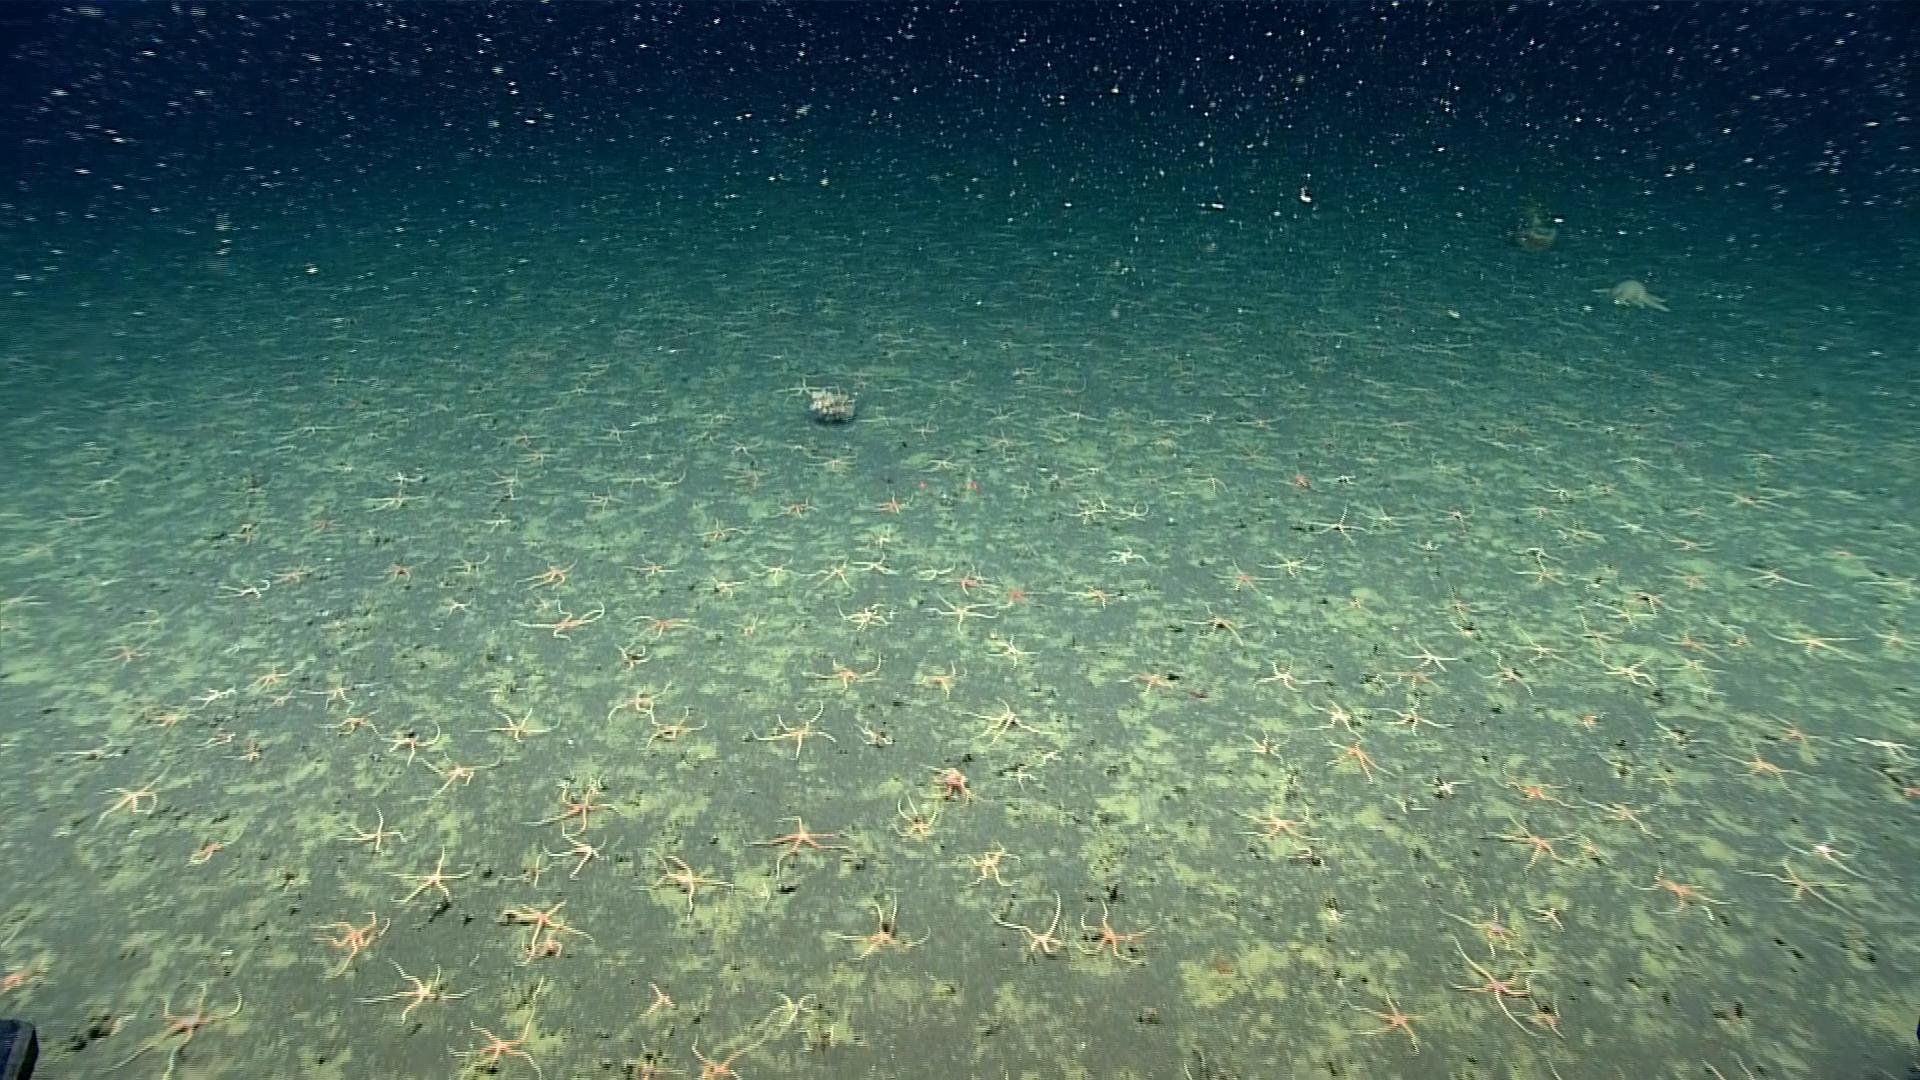brittle_sea_star: (98, 978, 244, 1069), (1440, 934, 1544, 1039), (353, 957, 484, 1033), (822, 897, 936, 968), (443, 1006, 546, 1075), (634, 849, 737, 916), (496, 897, 593, 967), (745, 812, 853, 874), (303, 907, 390, 982), (1722, 841, 1829, 901), (1344, 986, 1436, 1054), (1776, 823, 1874, 882), (87, 767, 171, 833), (404, 750, 505, 804), (989, 889, 1067, 959), (1618, 855, 1712, 911), (524, 778, 617, 835), (384, 848, 476, 905), (1071, 898, 1151, 963), (1441, 902, 1535, 957), (1477, 807, 1572, 861), (508, 589, 611, 638), (1701, 731, 1791, 786), (472, 698, 563, 752), (753, 695, 837, 749), (542, 824, 613, 886), (1582, 793, 1668, 841), (1755, 622, 1855, 661), (955, 692, 1038, 737), (1490, 765, 1571, 811), (1505, 625, 1582, 671), (690, 1033, 766, 1079), (1365, 692, 1445, 736), (339, 804, 404, 858), (601, 680, 673, 729), (757, 986, 833, 1031), (1319, 731, 1387, 779), (927, 589, 1010, 628), (956, 841, 1019, 890), (1307, 501, 1373, 547), (1232, 802, 1307, 841), (1183, 607, 1254, 647), (811, 650, 891, 686), (638, 707, 705, 749), (299, 673, 371, 712), (1507, 551, 1576, 592), (1394, 636, 1465, 674), (1246, 651, 1319, 688), (1733, 560, 1813, 593), (314, 705, 388, 741), (384, 715, 447, 756), (183, 828, 243, 870), (886, 786, 939, 832), (1478, 650, 1534, 694), (1, 700, 69, 736), (95, 636, 157, 674), (621, 612, 699, 642), (1217, 558, 1276, 597), (1596, 653, 1659, 688), (1861, 562, 1919, 600), (1432, 587, 1490, 622), (361, 487, 427, 517), (927, 762, 977, 802), (1571, 617, 1626, 653), (513, 559, 575, 591), (1265, 550, 1327, 582), (1597, 597, 1659, 629), (1658, 563, 1724, 592), (1311, 700, 1366, 735), (245, 661, 298, 696), (806, 556, 855, 595), (837, 603, 901, 632), (911, 662, 960, 699), (1665, 653, 1727, 682), (1120, 670, 1184, 698), (145, 700, 199, 733), (748, 554, 799, 588), (977, 630, 1030, 663), (624, 553, 683, 582), (189, 680, 244, 711), (368, 558, 425, 587), (212, 578, 270, 605), (450, 550, 501, 580), (191, 721, 239, 753), (1867, 625, 1919, 654), (481, 463, 526, 496), (219, 745, 272, 771), (690, 518, 744, 543), (436, 592, 483, 621), (1067, 584, 1120, 609), (613, 638, 653, 671), (852, 553, 899, 579), (644, 980, 680, 1013), (580, 487, 629, 510), (1685, 679, 1730, 704), (1557, 524, 1607, 546), (873, 489, 915, 516), (265, 564, 314, 587), (302, 514, 353, 535), (1108, 545, 1150, 570), (265, 686, 301, 715), (951, 572, 992, 597), (779, 496, 818, 522), (1112, 501, 1153, 525), (1065, 502, 1105, 526), (1435, 505, 1473, 529), (915, 566, 952, 585), (1010, 479, 1039, 504)
